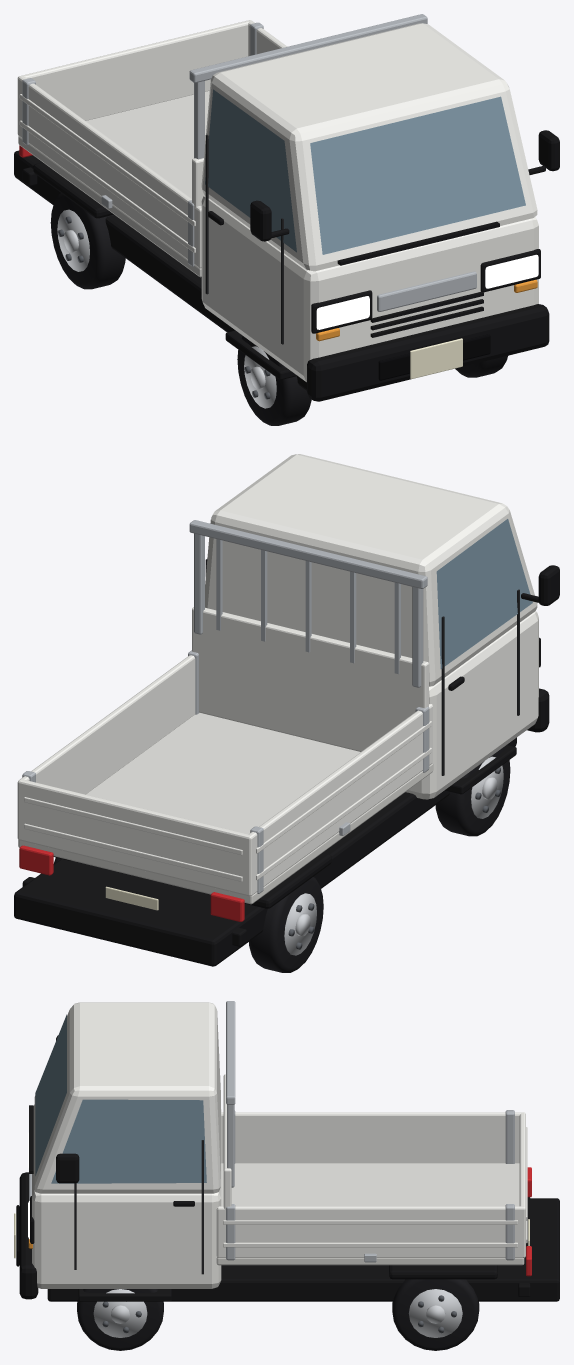
The model's file is truck.glb.
3 renders of one model, top to bottom at view 1: azimuth 30°, elevation 25°; view 2: azimuth 150°, elevation 25°; view 3: azimuth 270°, elevation 25°, orthographic. The views are drawn at different scales.
Parts seen in each view (by area): view 1: truckBody, wheelRR, wheelFR, wheelFL; view 2: truckBody, wheelRR, wheelFR; view 3: truckBody, wheelRL, wheelFL.
Boxes of the visible parts, bbox=[...] form: truckBody: bbox=[14, 14, 559, 401]; wheelRR: bbox=[50, 193, 125, 289]; wheelFR: bbox=[237, 336, 311, 425]; wheelFL: bbox=[455, 355, 507, 377]; truckBody: bbox=[14, 454, 559, 966]; wheelRR: bbox=[249, 877, 323, 972]; wheelFR: bbox=[435, 746, 510, 836]; truckBody: bbox=[14, 1001, 559, 1301]; wheelRL: bbox=[392, 1279, 479, 1350]; wheelFL: bbox=[77, 1289, 163, 1350].
Bounding box in the file's own units: 1.88 × 1.86 × 3.52.
